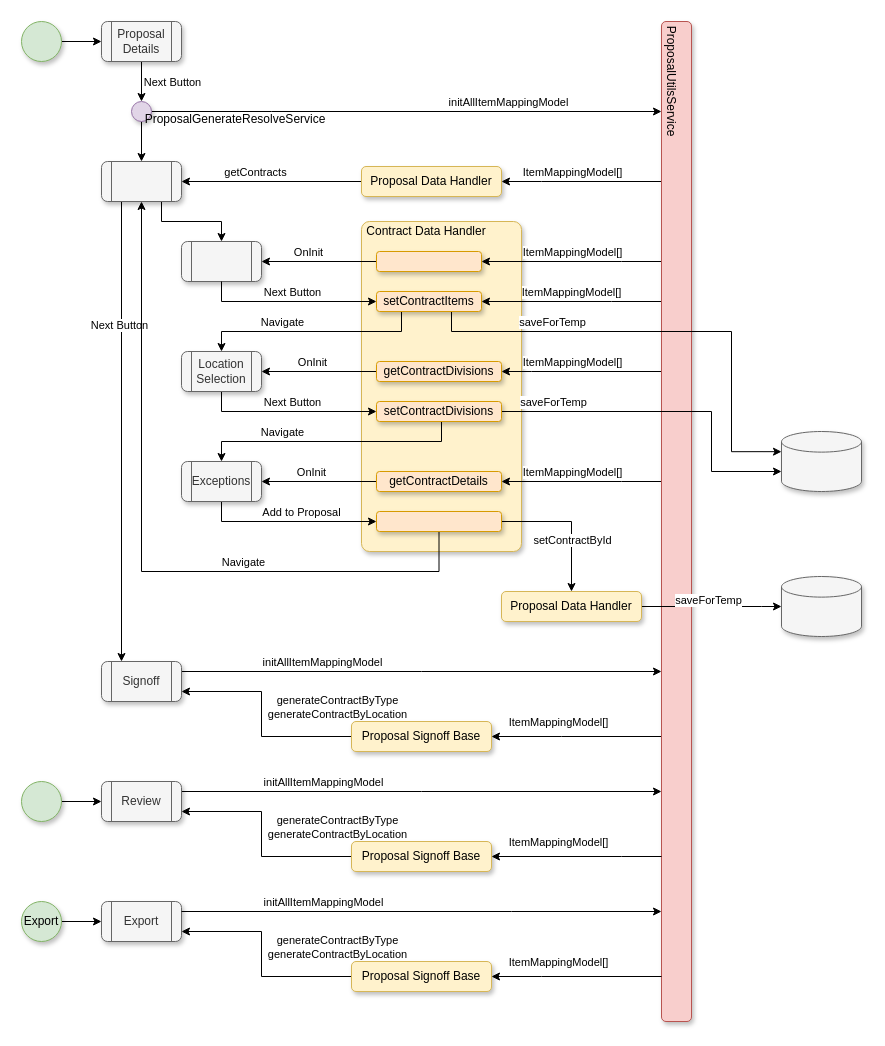
Image size: 885x1046. Some labels were removed from this diagram. The shapes that lost their labels are listed below. From the top down, each one's centre as x and y in pixels, then its label:
At (42,42): "Creation".
At (142,182): "Contract Overview".
At (222,262): "Item Selection".
At (430,262): "getContractItems".
At (822,462): "Contract Session Storage".
At (440,522): "setContractDetails".
At (822,608): "Proposal Session Storage".
At (42,802): "Search".
